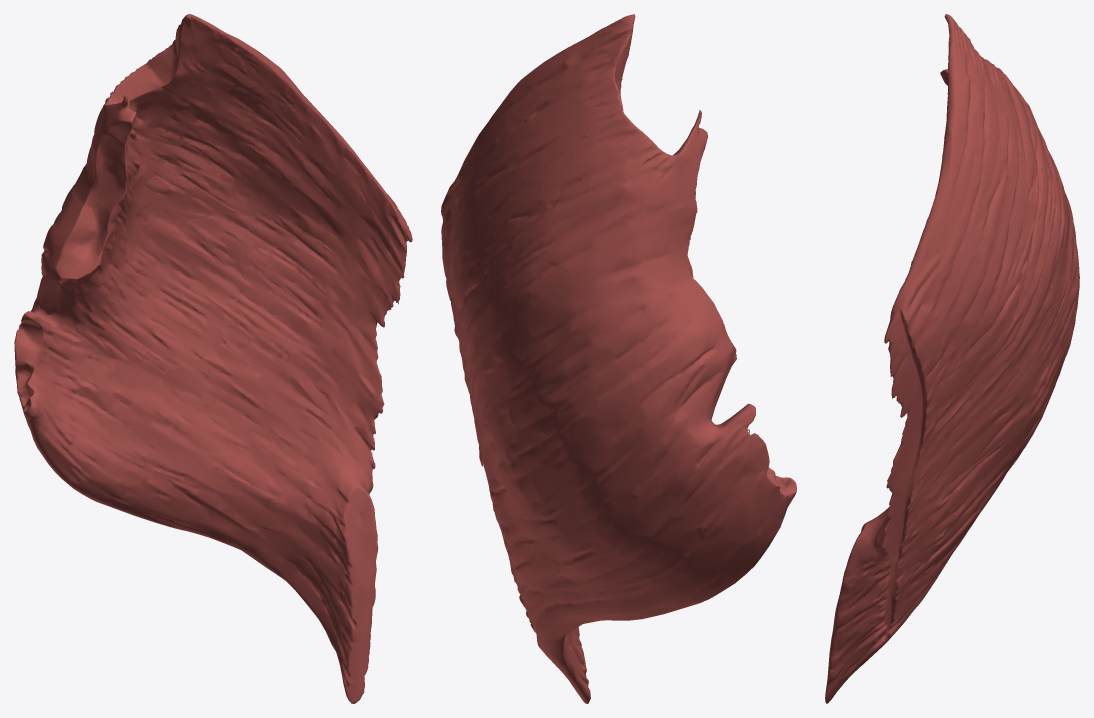
Rendered from FMA22329.glb.
3 views of the same model, side by side, from view 1: azimuth 30°, elevation 25°; view 2: azimuth 150°, elevation 25°; view 3: azimuth 270°, elevation 25° (orthographic). The views are drawn at different scales.
Parts seen in each view (by area): view 1: FMA22329; view 2: FMA22329; view 3: FMA22329.
Part boxes in pixels (x1,y1,x2,y2): FMA22329: [14, 14, 412, 703]; FMA22329: [441, 14, 796, 703]; FMA22329: [825, 14, 1079, 703].
Size of the model in its own units: 0.1406 by 0.2608 by 0.094.
